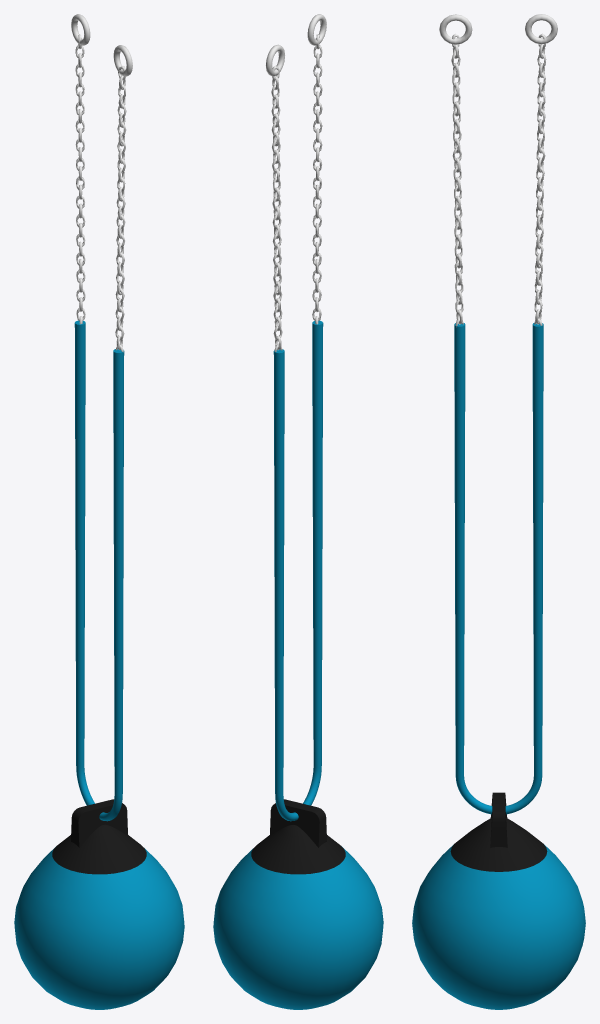
The picture shows the model from 3 angles, left to right: view 1: azimuth 30°, elevation 25°; view 2: azimuth 150°, elevation 25°; view 3: azimuth 270°, elevation 25°; orthographic projection.
Visible parts, largest first — view 1: Sphere001,_colorize_, Torus007,_colorize_, Torus008, Sphere001_1, Cube108, Torus; view 2: Sphere001,_colorize_, Torus007,_colorize_, Torus008, Sphere001_1, Cube108, Torus; view 3: Sphere001,_colorize_, Torus007,_colorize_, Torus008, Sphere001_1, Torus, Cube108.
Part boxes in pixels (left/top/right/bottom): Sphere001,_colorize_: left=14, top=847, right=184, bottom=1009; Torus007,_colorize_: left=74, top=320, right=124, bottom=821; Torus008: left=75, top=34, right=126, bottom=352; Sphere001_1: left=52, top=824, right=146, bottom=874; Cube108: left=71, top=799, right=127, bottom=847; Torus: left=71, top=14, right=132, bottom=76; Sphere001,_colorize_: left=213, top=846, right=383, bottom=1009; Torus007,_colorize_: left=273, top=320, right=323, bottom=821; Torus008: left=271, top=34, right=322, bottom=351; Sphere001_1: left=251, top=825, right=345, bottom=874; Cube108: left=270, top=799, right=326, bottom=847; Torus: left=266, top=14, right=326, bottom=76; Sphere001,_colorize_: left=412, top=844, right=585, bottom=1009; Torus007,_colorize_: left=454, top=323, right=543, bottom=814; Torus008: left=451, top=33, right=546, bottom=327; Sphere001_1: left=450, top=818, right=547, bottom=871; Torus: left=439, top=14, right=557, bottom=44; Cube108: left=490, top=792, right=507, bottom=847.
Bounding box in the file's own units: 0.3452 × 2.17 × 0.3452.
